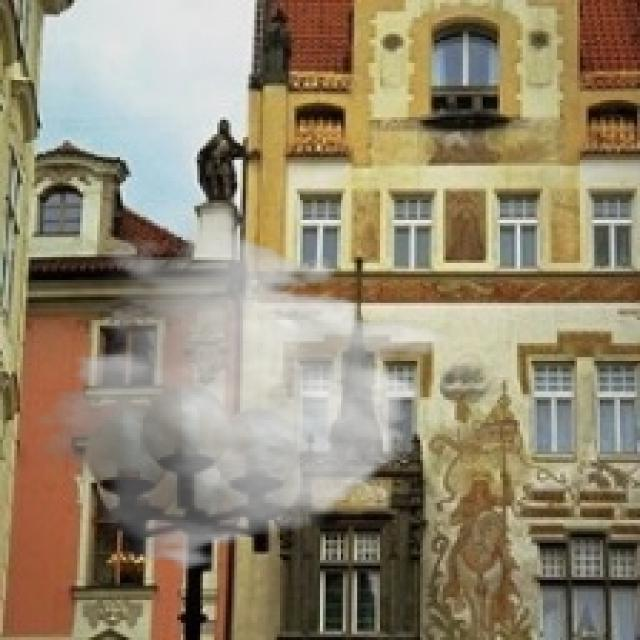Smoke: (28, 200, 454, 574)
